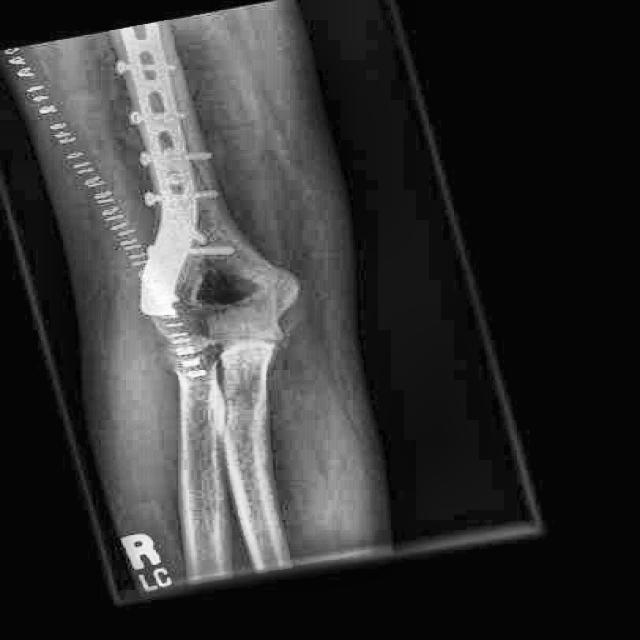elbow positive: (226, 235, 327, 339)
